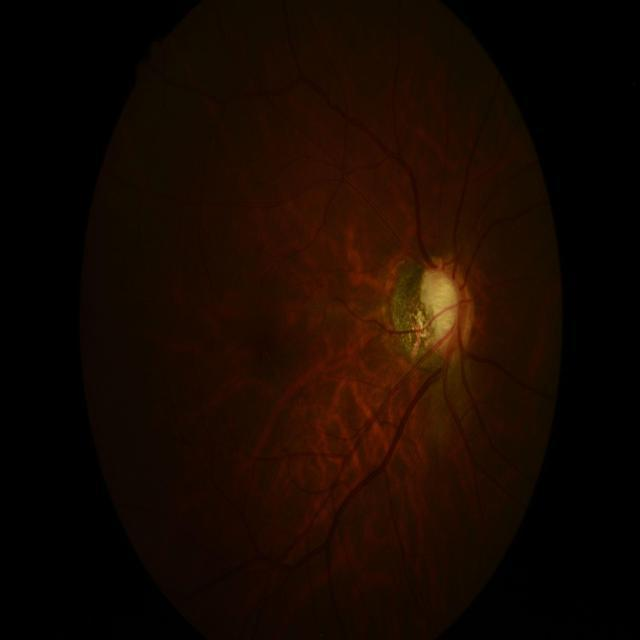cup: (423, 270, 461, 348)
disk: (420, 260, 474, 359)
